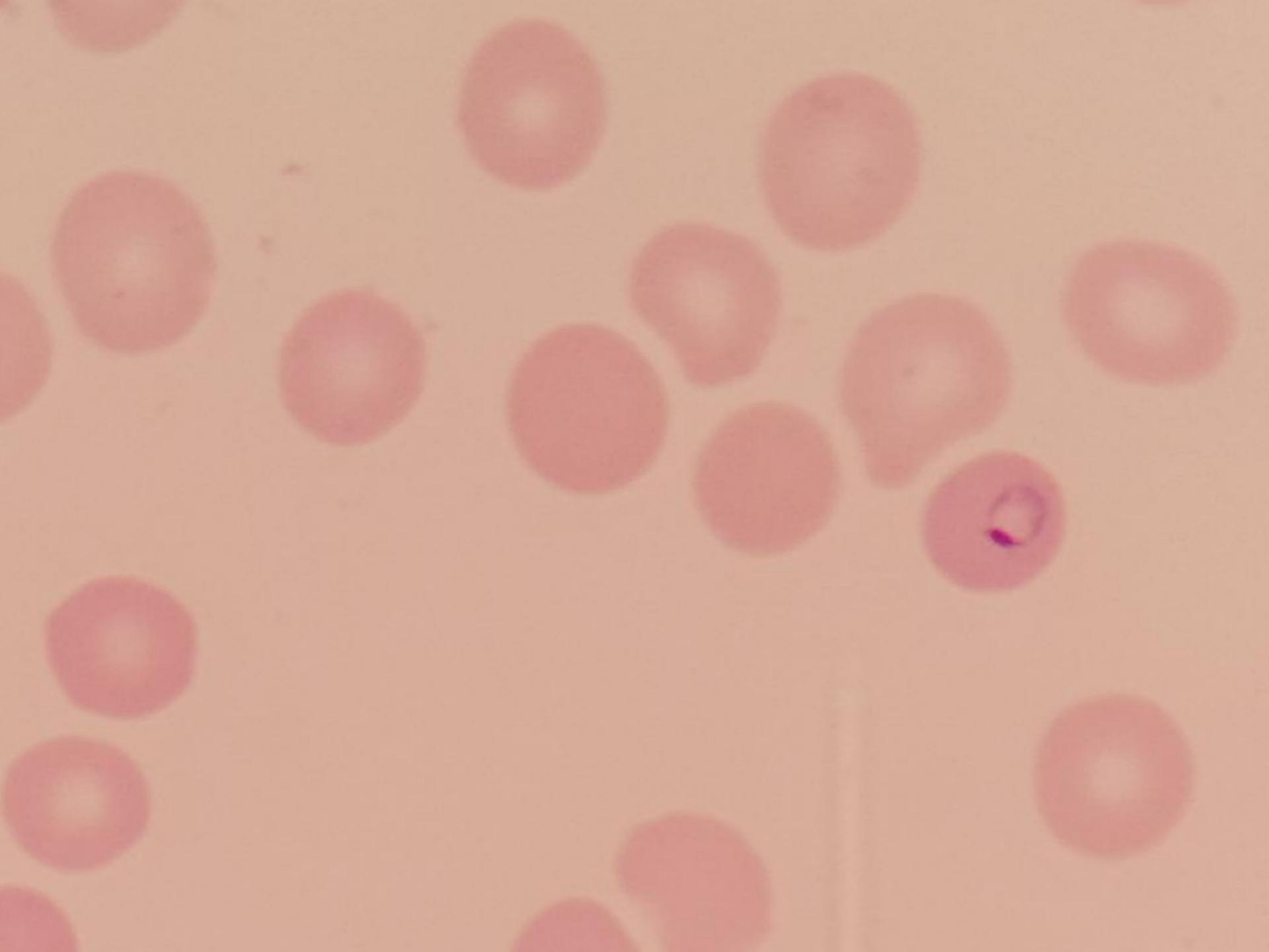Infected: (924, 448, 1058, 590)
Uninfected: (843, 296, 1010, 492), (758, 70, 923, 250), (53, 170, 216, 347), (1031, 692, 1194, 858), (511, 326, 668, 491), (454, 18, 603, 185), (633, 225, 784, 389), (1062, 243, 1235, 385), (692, 402, 843, 553), (281, 289, 424, 444), (622, 810, 773, 952), (46, 580, 198, 715), (0, 732, 149, 867)
